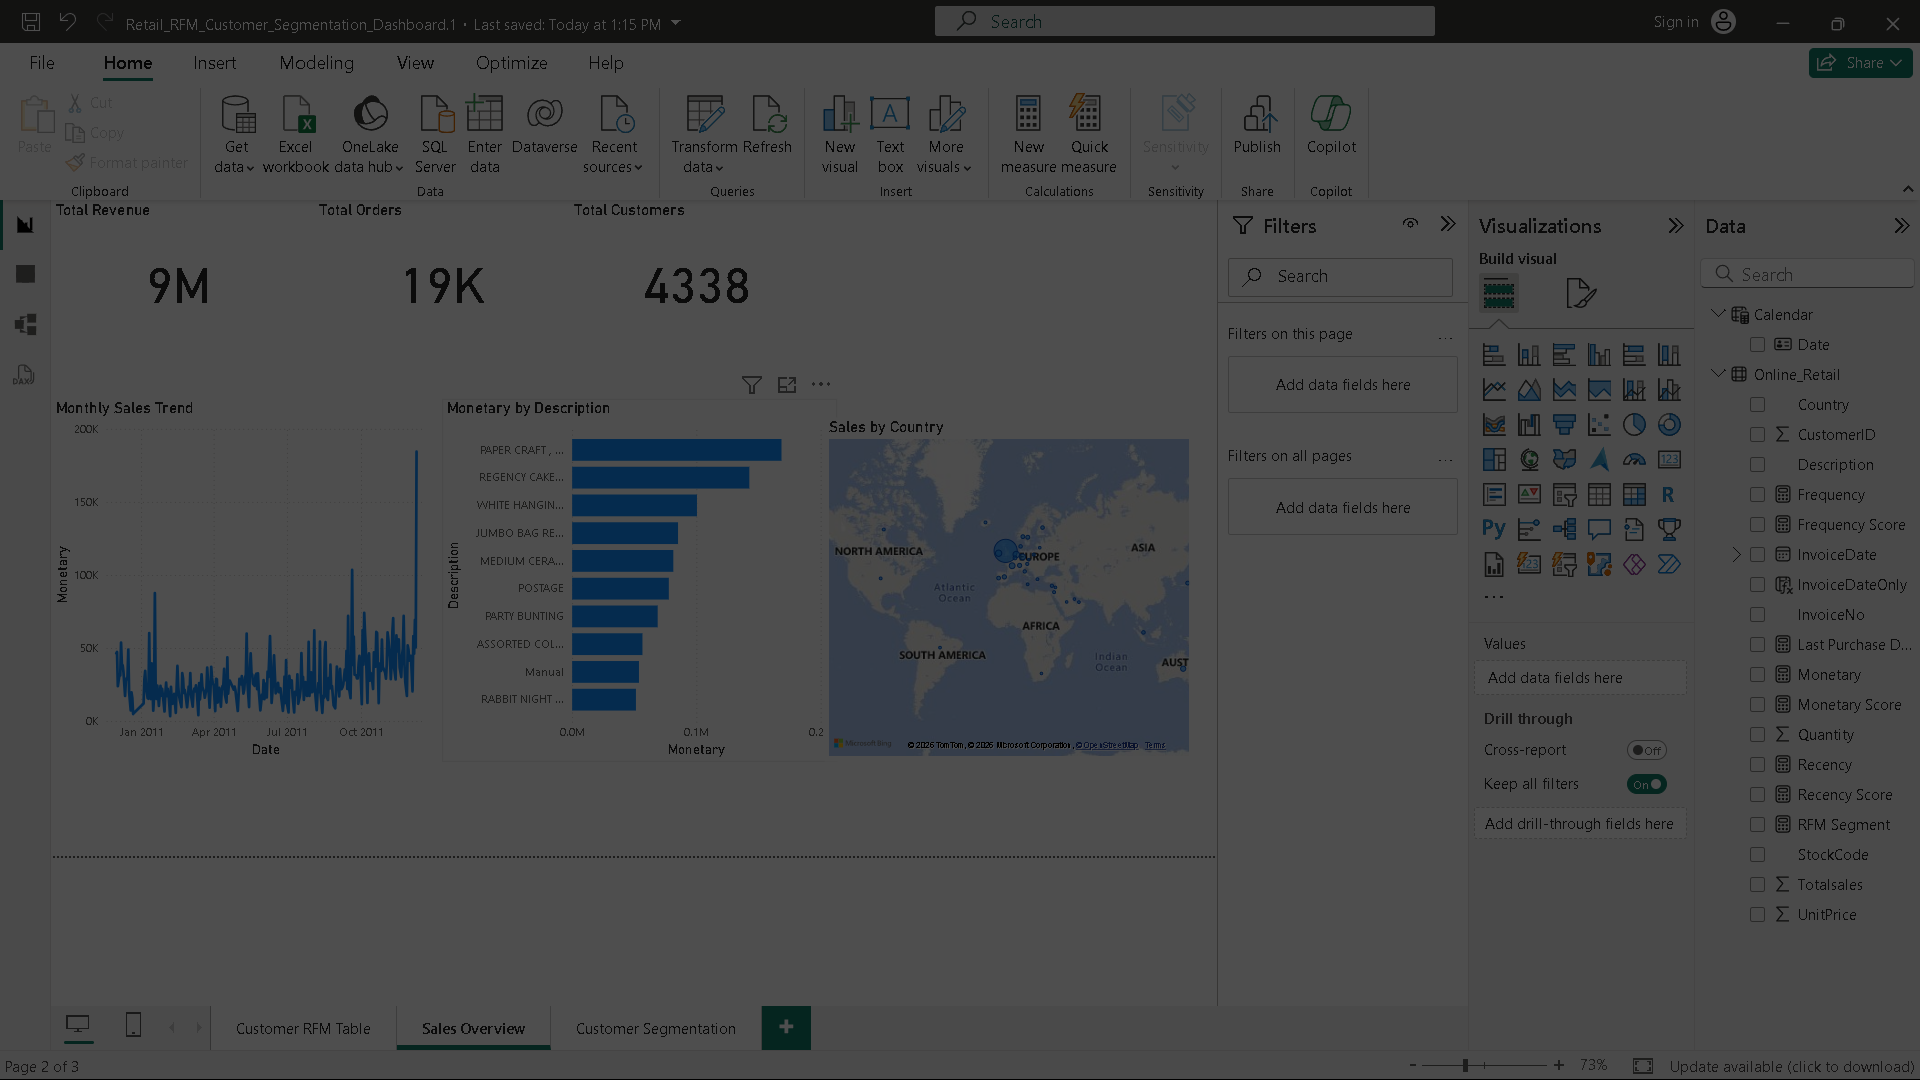

The page's visual inventory and layout, read from the dashboard file:
{"tool":"powerbi","page":{"name":"Sales Overview","canvas":[1280,720],"ordinal":1},"visuals":[{"type":"card","title":"Total Revenue","fields":{"Values":["Online_Retail.Monetary"]},"box":[0,52.1,279.9,156.4],"z":0},{"type":"card","title":"Total Orders","fields":{"Values":["Online_Retail.Frequency"]},"box":[279.9,61.7,279.9,156.4],"z":1000},{"type":"card","title":"Total Customers","fields":{"Values":["Count(Online_Retail.CustomerID)"]},"box":[559.9,61.7,279.9,156.4],"z":2000},{"type":"lineChart","title":"Monthly Sales Trend","fields":{"Category":["Calendar.Date"],"Y":["Online_Retail.Monetary"]},"box":[0,218.2,429.5,397.9],"z":3000},{"type":"clusteredBarChart","fields":{"Category":["Online_Retail.Description"],"Y":["Online_Retail.Monetary"]},"box":[422.6,218.2,433.6,397.9],"z":4000},{"type":"map","title":"Sales by Country","fields":{"Category":["Online_Retail.Country"],"Size":["Online_Retail.Monetary"]},"box":[856.3,218.2,404.8,377.4],"z":5000},{"type":"textbox","box":[0,9.6,495.4,42.5],"z":5001}]}

Visuals, with their boxes on the page's 1280x720 design canvas (x1, y1, x2, y2). These are canvas units, not pixel positions in the 1920x1080 screenshot, which may show the page scaled, cropped or inside an application window:
"Total Revenue" card: x1=0, y1=52, x2=280, y2=208
"Total Orders" card: x1=280, y1=62, x2=560, y2=218
"Total Customers" card: x1=560, y1=62, x2=840, y2=218
"Monthly Sales Trend" lineChart: x1=0, y1=218, x2=430, y2=616
clusteredBarChart - Online_Retail.Description x Online_Retail.Monetary: x1=423, y1=218, x2=856, y2=616
"Sales by Country" map: x1=856, y1=218, x2=1261, y2=596
textbox: x1=0, y1=10, x2=495, y2=52
